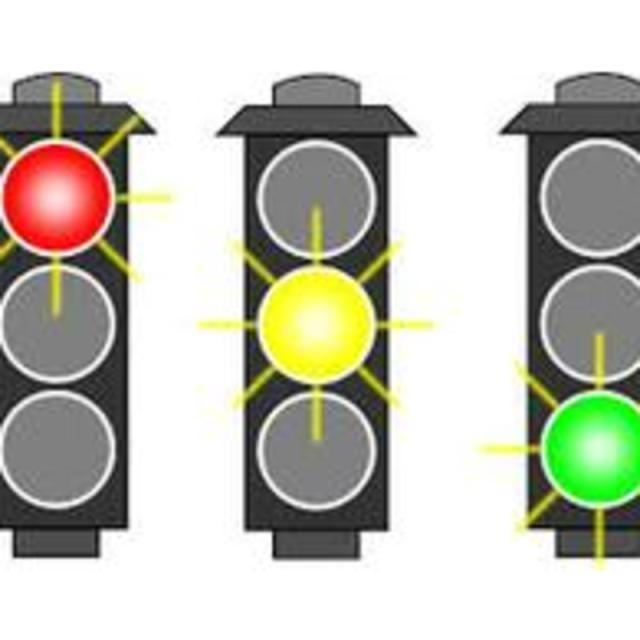green_light: (500, 71, 638, 561)
red_light: (0, 72, 153, 557)
yellow_light: (217, 72, 413, 560)
